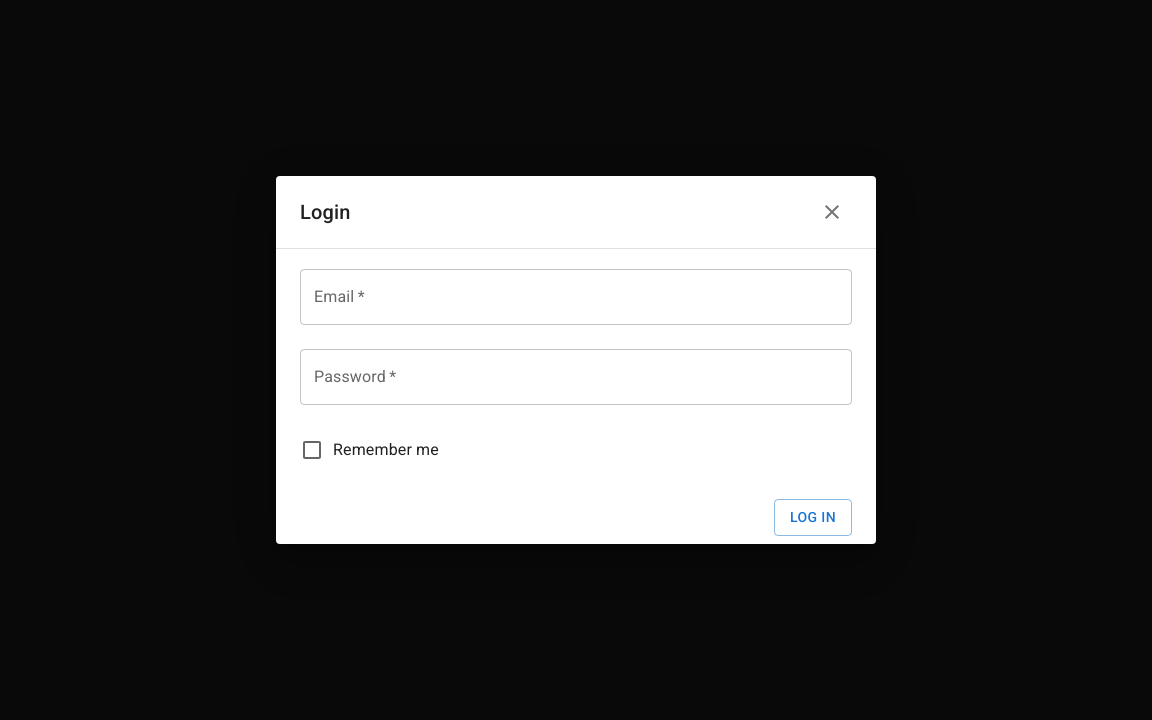
Test: LoginDialog › Normal login flow › Shows loading state while submitting
Type "test@example.com" into the field labelled "Email *" at (576,297), box top-left (300, 269), bottom-right (852, 325)
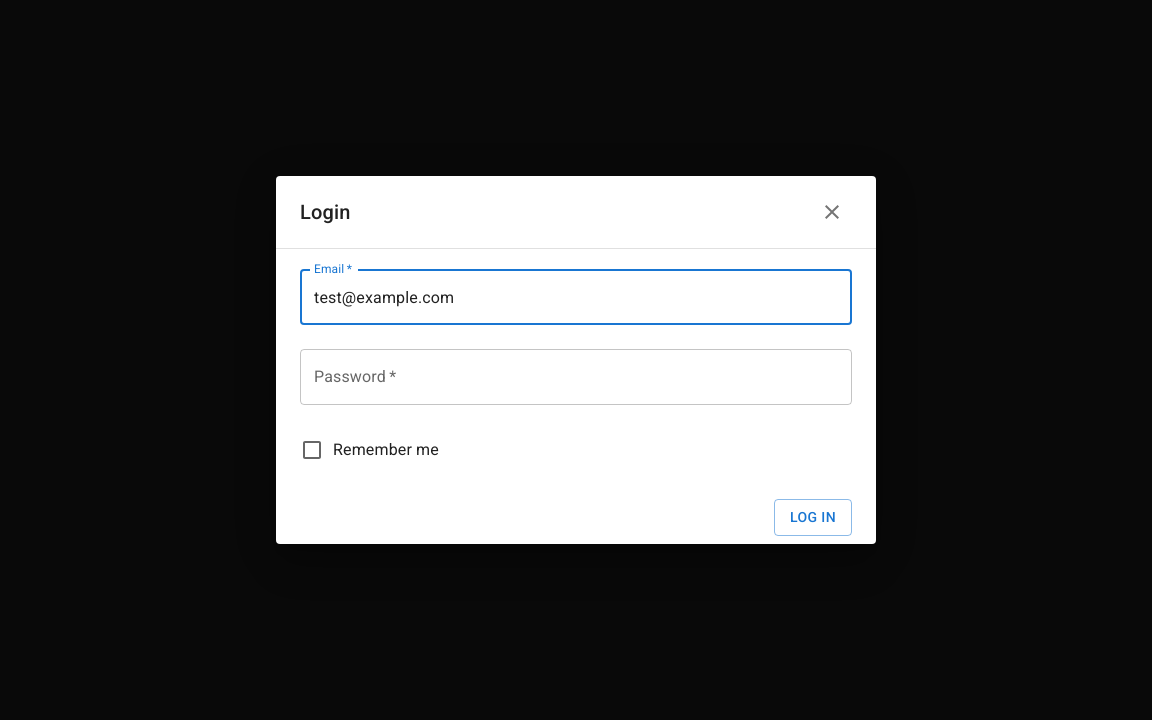
Type "Password123!" into the password field labelled "Password *" at (576,377), box top-left (300, 349), bottom-right (852, 405)
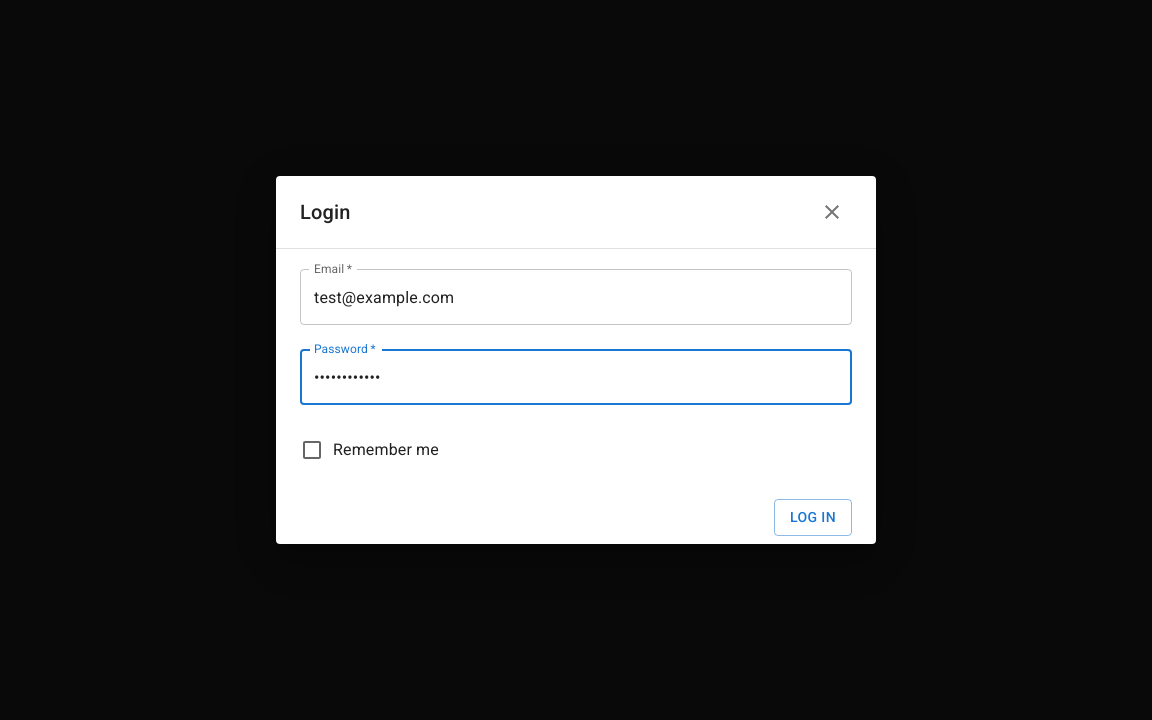
Click the button "Log In" at (813,518), box top-left (774, 499), bottom-right (852, 536)
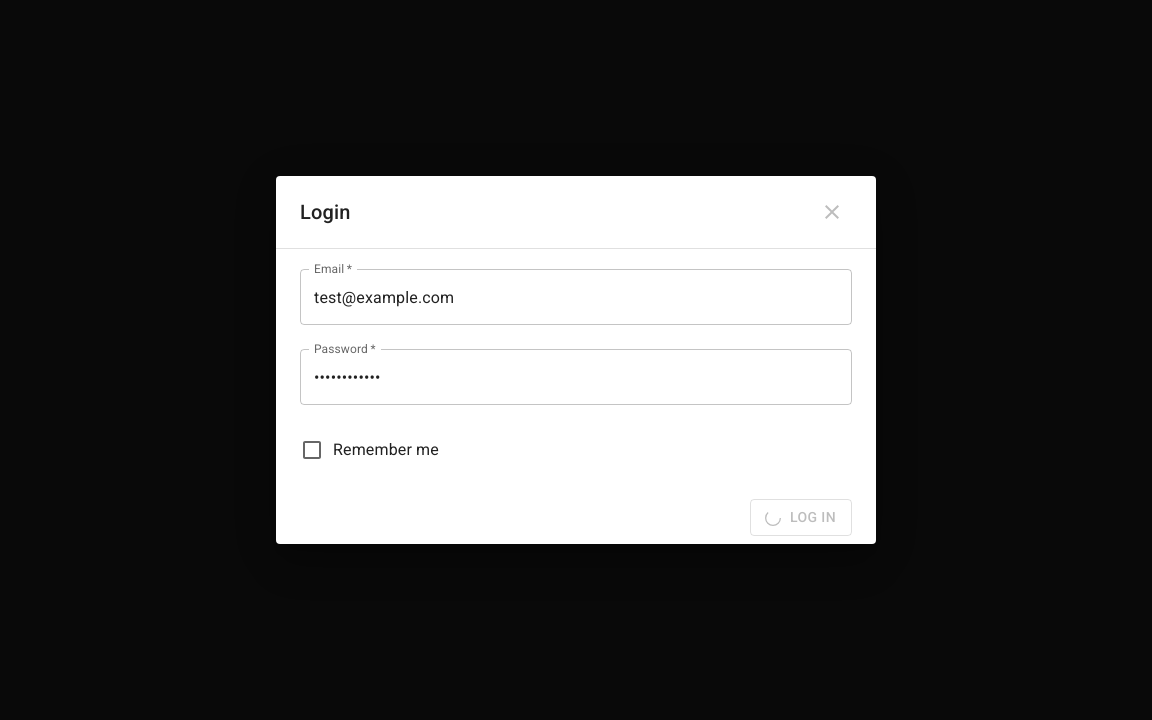
Check: the button "Log In" is disabled, box top-left (750, 499), bottom-right (852, 536)
Check: the button named "close" is disabled, box top-left (812, 192), bottom-right (852, 232)
